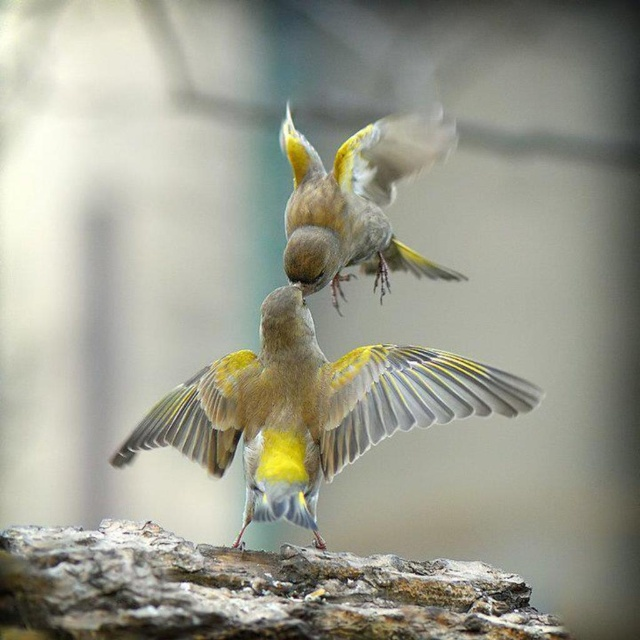Canary: (107, 282, 547, 548), (276, 95, 470, 316)
